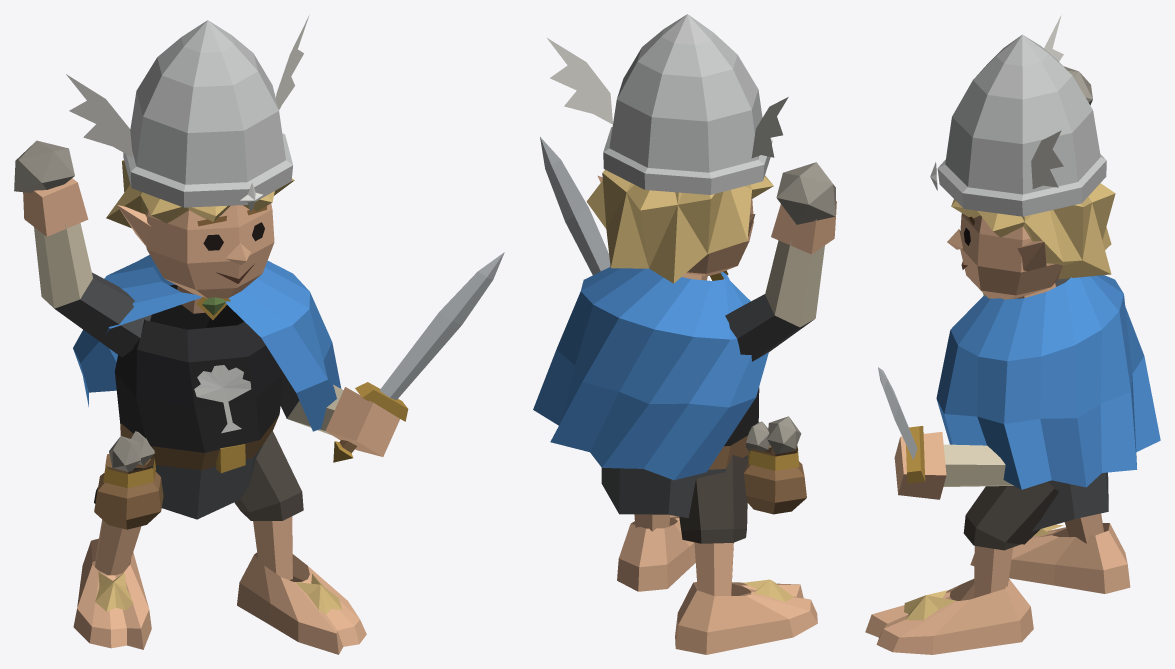
Rendered from pippin-3.glb.
The picture shows the model from 3 angles, left to right: view 1: azimuth 30°, elevation 25°; view 2: azimuth 150°, elevation 25°; view 3: azimuth 270°, elevation 25°; orthographic projection. The views are drawn at different scales.
Visible parts, largest first — view 1: pippin-3; view 2: pippin-3; view 3: pippin-3.
Part boxes in pixels (box(x1,y1,x2,y2)): pippin-3: box(14, 15, 504, 654); pippin-3: box(533, 14, 836, 654); pippin-3: box(865, 15, 1160, 654).
Bounding box in the file's own units: 0.792 × 1.13 × 0.5273.
